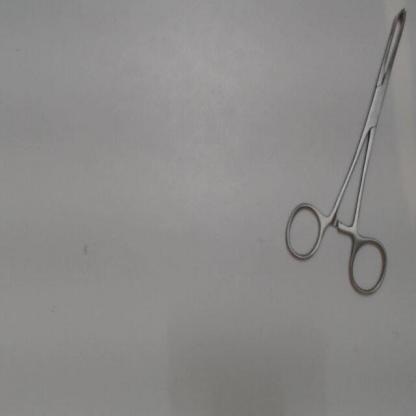Allis Tissue Forceps: (278, 1, 412, 302)
